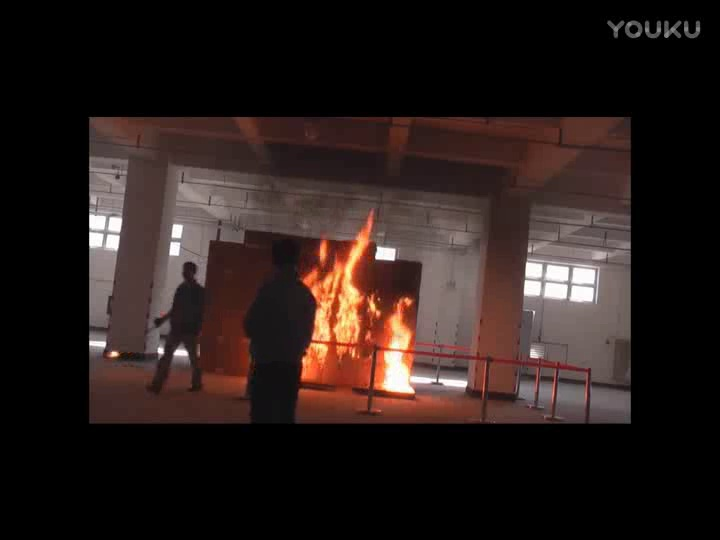fire: (313, 223, 421, 396)
